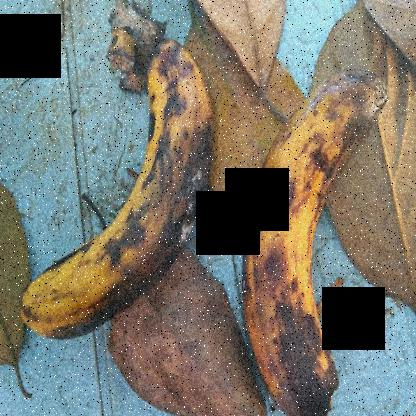rotten: (16, 34, 215, 352), (230, 50, 400, 415)
